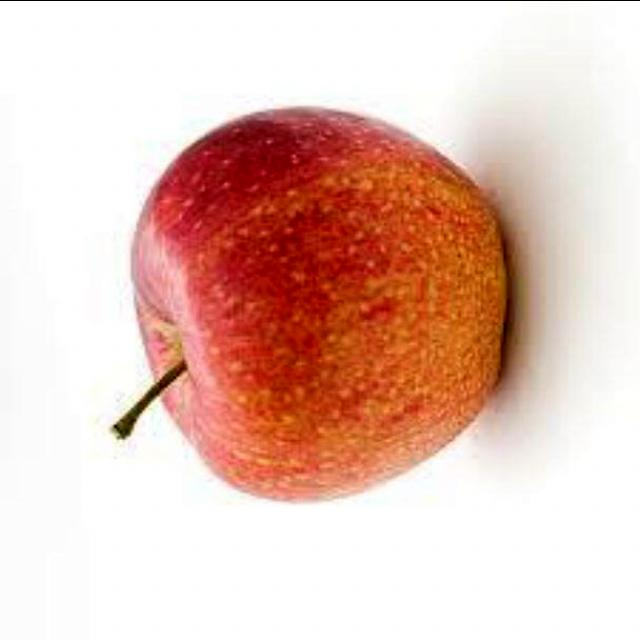HEALTHY: (115, 91, 538, 521)
